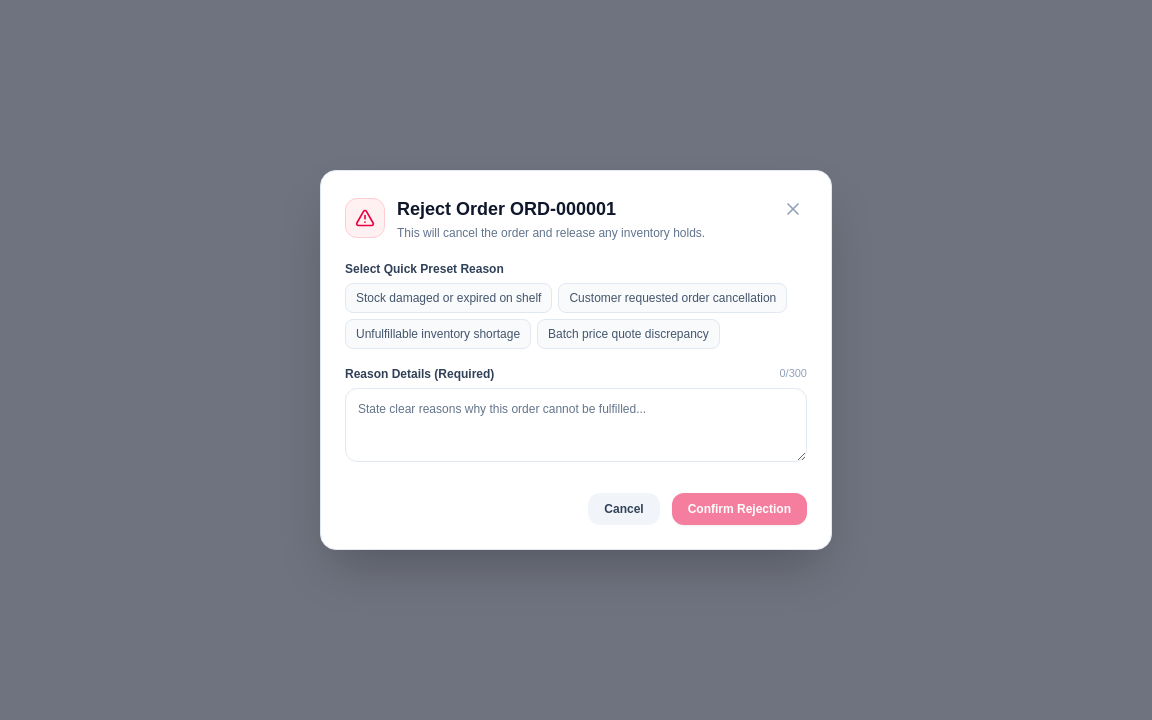
Test case: OrderRejectModal Component › selects a preset when preset button is clicked
What coordinates should you click on to do the following:
click the button "Stock damaged or expired on shelf"
I would click on:
 (449, 298)
Its box is left=345, top=283, right=552, bottom=313.
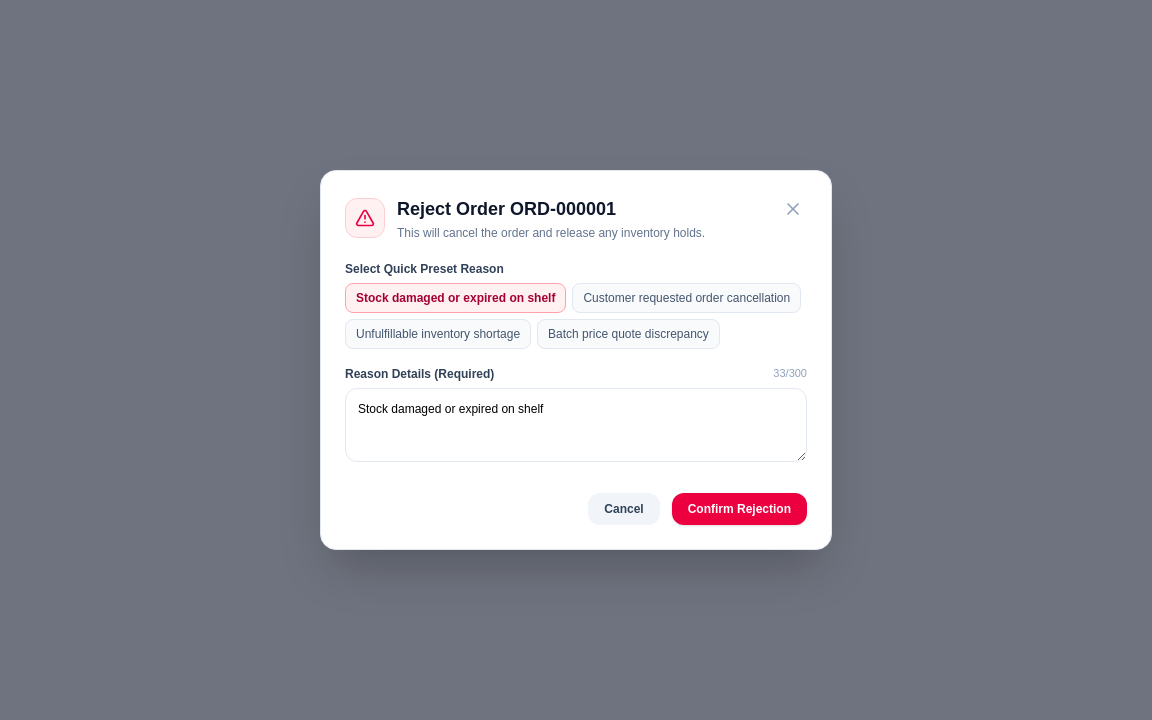
Expected: the text box with placeholder "State clear reasons why this order cannot be fulfilled..." holds "Stock damaged or expired on shelf", left=345, top=388, right=807, bottom=462
